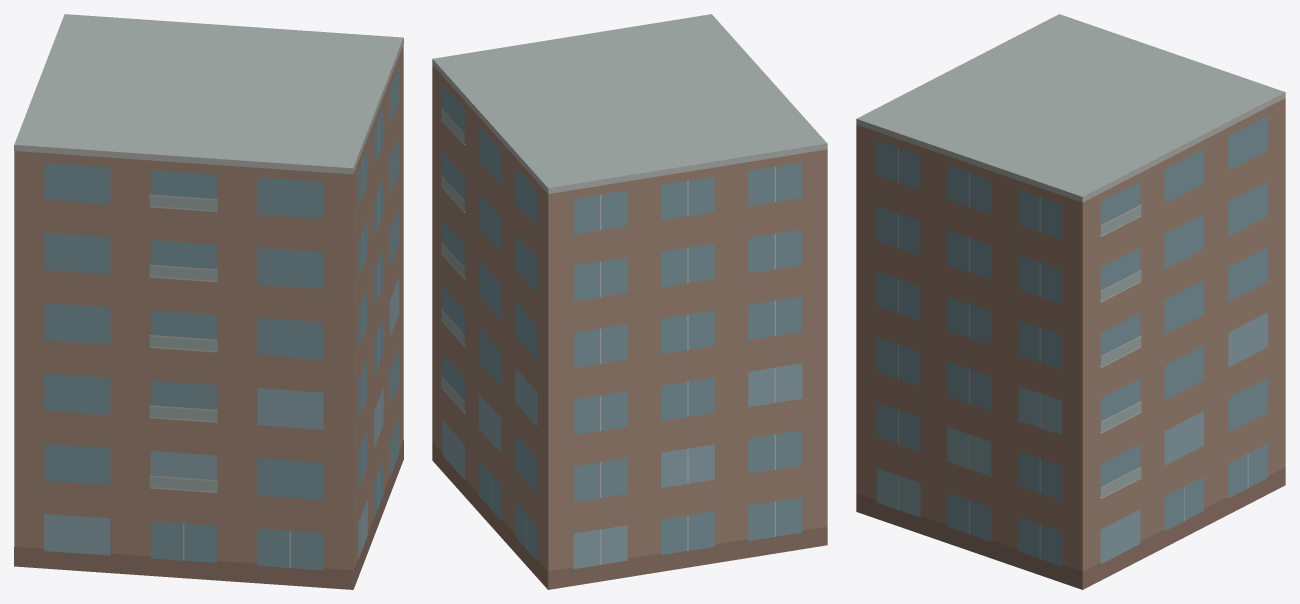
Rendered from survey-upis-32923636.glb.
3 renders of one model, left to right at view 1: azimuth 30°, elevation 25°; view 2: azimuth 150°, elevation 25°; view 3: azimuth 270°, elevation 25°, orthographic. The views are drawn at different scales.
Visible parts, largest first — view 1: survey-upis-32923636.tmp; view 2: survey-upis-32923636.tmp; view 3: survey-upis-32923636.tmp.
Part boxes in pixels (x1=…): survey-upis-32923636.tmp: x1=14, y1=14, x2=403, y2=589; survey-upis-32923636.tmp: x1=432, y1=14, x2=827, y2=589; survey-upis-32923636.tmp: x1=856, y1=14, x2=1285, y2=589.
Bounding box in the file's own units: 16.68 × 16.7 × 16.54.
